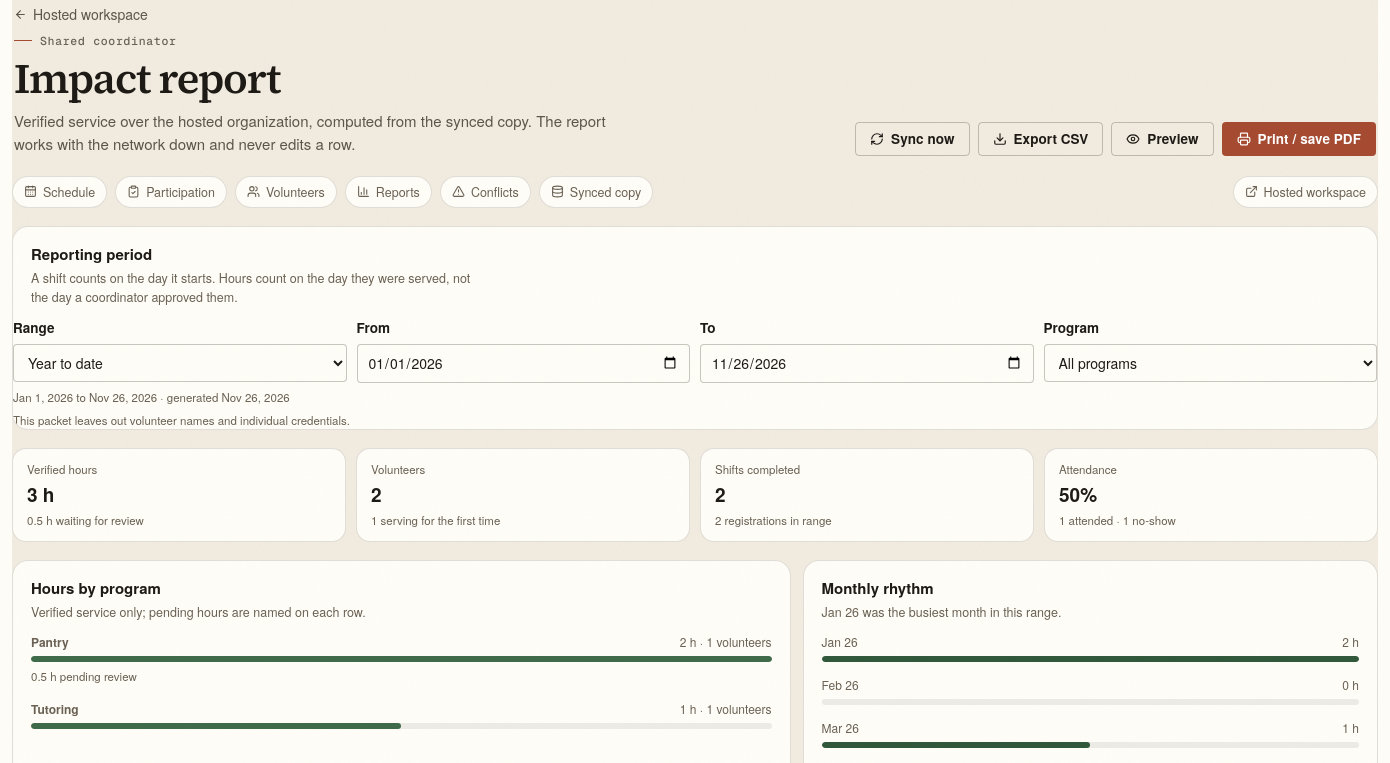
Test: shared impact report › narrows the whole report to one program
This screenshot has width=1390, height=763.
Select "Tutoring" in the dropdown labelled "Program" at [1210, 363], box top-left (1044, 344), bottom-right (1377, 382)
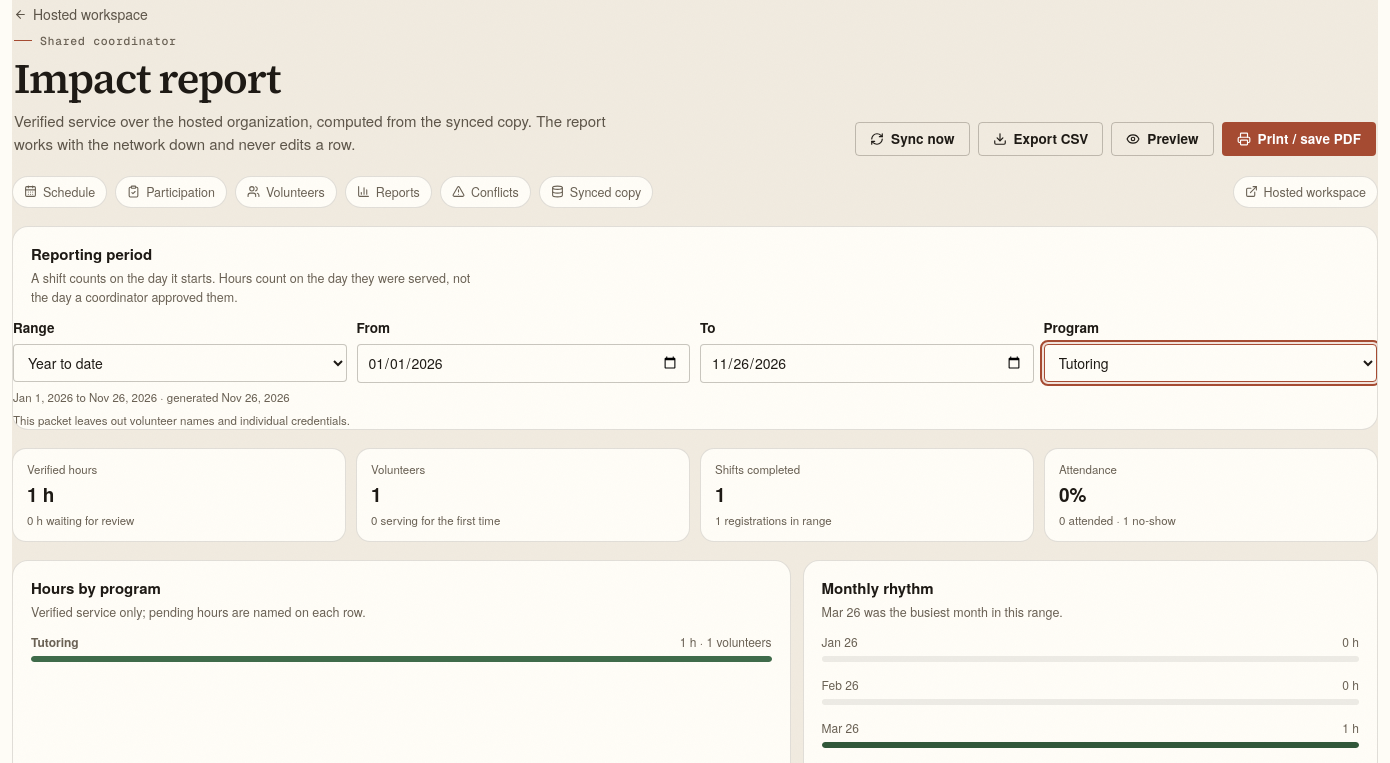
Expected: the 1st text "1 h" is shown, top-left (27, 481), bottom-right (54, 508)
Expected: the text "0 h waiting for review" is shown, top-left (27, 512), bottom-right (134, 528)
Expected: the text "Pantry" is gone
